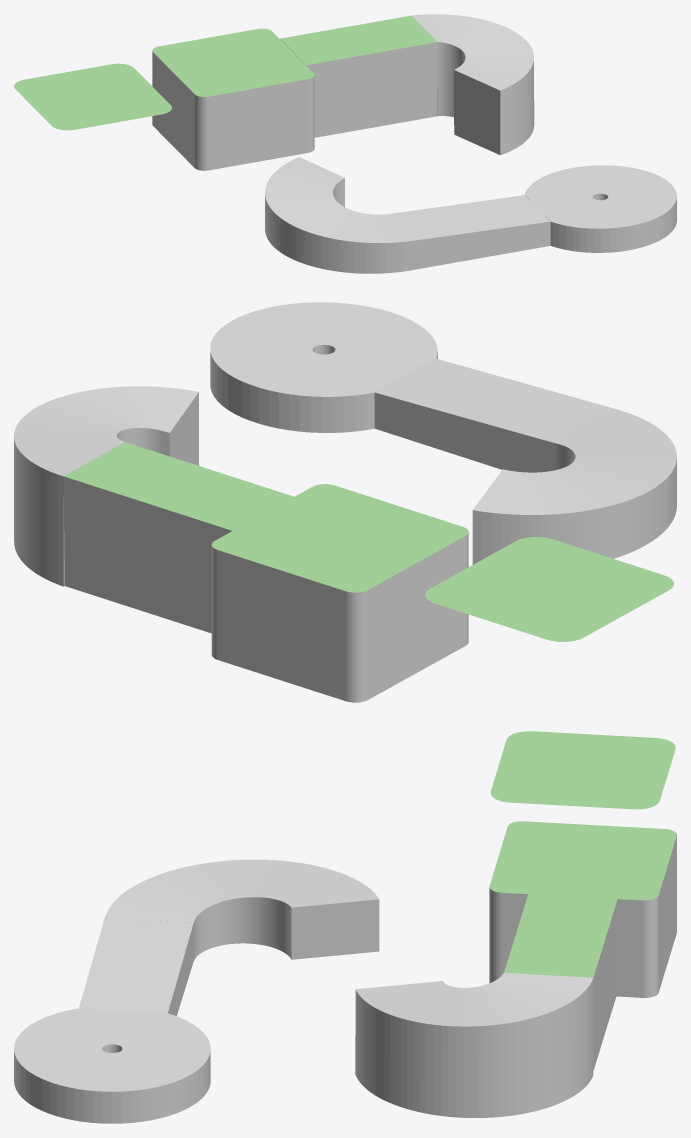
File: GolfStage01.glb
3 renders of one model, top to bottom at view 1: azimuth 30°, elevation 25°; view 2: azimuth 150°, elevation 25°; view 3: azimuth 270°, elevation 25°, orthographic. The views are drawn at different scales.
Parts seen in each view (by area): view 1: Cube.002, Cube, Plane, Plane.001, Cylinder.001, Cube.003, Cube.001; view 2: Cube.002, Cube, Cylinder.001, Plane.001, Plane, Cube.003, Cube.001; view 3: Plane, Cube.002, Cylinder.001, Plane.001, Cube.001, Cube, Cube.003.
Boxes of the visible parts, bbox=[...] form: Cube.002: bbox=[152, 28, 314, 170]; Cube: bbox=[280, 15, 437, 137]; Plane: bbox=[411, 14, 534, 155]; Plane.001: bbox=[265, 157, 411, 273]; Cylinder.001: bbox=[524, 165, 676, 252]; Cube.003: bbox=[385, 195, 550, 270]; Cube.001: bbox=[14, 63, 171, 130]; Cube.002: bbox=[211, 484, 468, 702]; Cube: bbox=[63, 442, 293, 633]; Cylinder.001: bbox=[210, 302, 437, 432]; Plane.001: bbox=[472, 409, 676, 564]; Plane: bbox=[14, 386, 199, 586]; Cube.003: bbox=[374, 358, 614, 472]; Cube.001: bbox=[425, 537, 673, 641]; Plane: bbox=[355, 972, 593, 1117]; Cube.002: bbox=[489, 821, 676, 997]; Cylinder.001: bbox=[14, 1008, 210, 1123]; Plane.001: bbox=[105, 859, 379, 961]; Cube.001: bbox=[490, 731, 675, 809]; Cube: bbox=[504, 894, 617, 1070]; Cube.003: bbox=[79, 918, 193, 1015].
Size of the model in its own units: 8.17 by 1.27 by 7.77.
